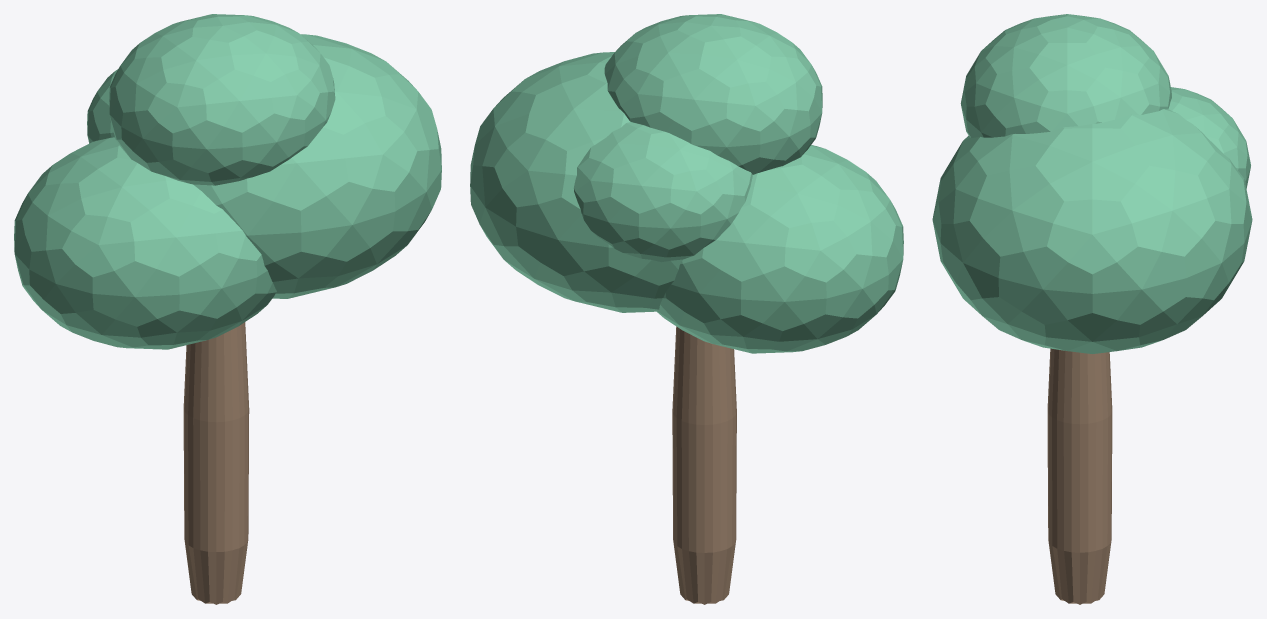
Rendered from arvore.glb.
3 renders of one model, left to right at view 1: azimuth 30°, elevation 25°; view 2: azimuth 150°, elevation 25°; view 3: azimuth 270°, elevation 25°, orthographic.
Visible parts, largest first — view 1: Arvore; view 2: Arvore; view 3: Arvore.
Part boxes in pixels (bbox=[...]): Arvore: bbox=[14, 14, 441, 604]; Arvore: bbox=[470, 14, 903, 604]; Arvore: bbox=[932, 14, 1252, 604].
Bounding box in the file's own units: 1.82 × 2.53 × 1.28.
